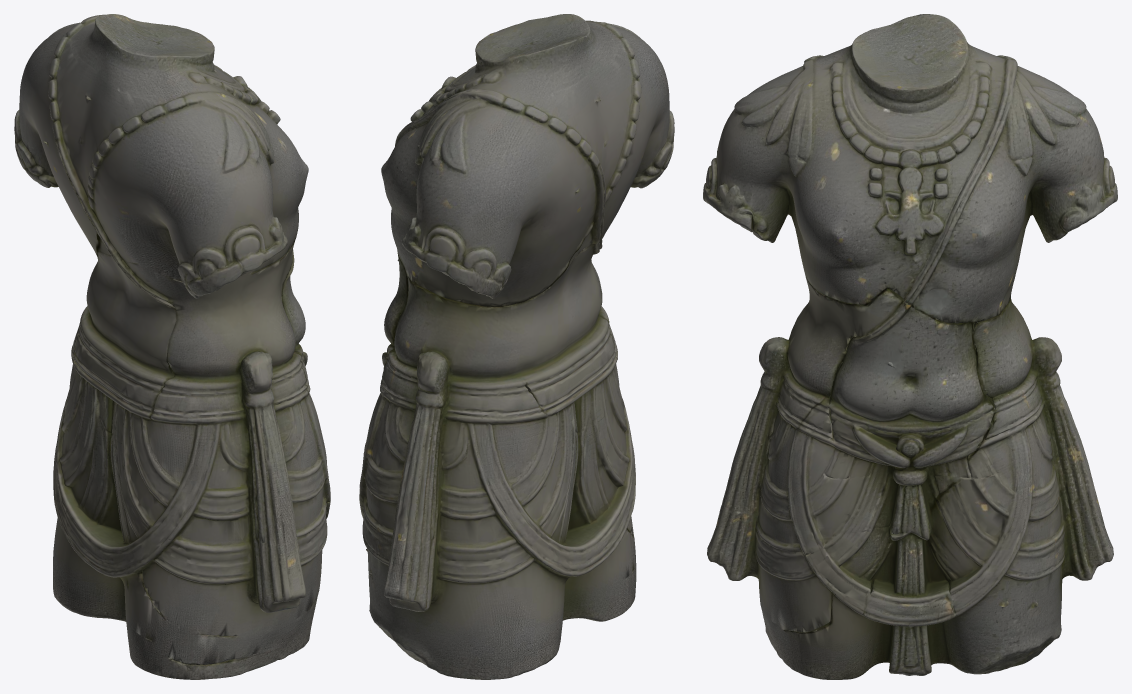
Rendered from fragmented-deity-torso-statue-optimized.glb.
3 views of the same model, side by side, from view 1: azimuth 30°, elevation 25°; view 2: azimuth 150°, elevation 25°; view 3: azimuth 270°, elevation 25° (orthographic). The views are drawn at different scales.
Visible parts, largest first — view 1: tripo_node_ef3304b7-2570-419a-8682-972ff79021d2; view 2: tripo_node_ef3304b7-2570-419a-8682-972ff79021d2; view 3: tripo_node_ef3304b7-2570-419a-8682-972ff79021d2.
Boxes of the visible parts, x1,y1,x2,y2 form: tripo_node_ef3304b7-2570-419a-8682-972ff79021d2: (14, 14, 330, 679); tripo_node_ef3304b7-2570-419a-8682-972ff79021d2: (359, 14, 674, 679); tripo_node_ef3304b7-2570-419a-8682-972ff79021d2: (703, 14, 1117, 679).
Size of the model in its own units: 0.3719 by 0.9995 by 0.6324.
1 material, 1 textured.
